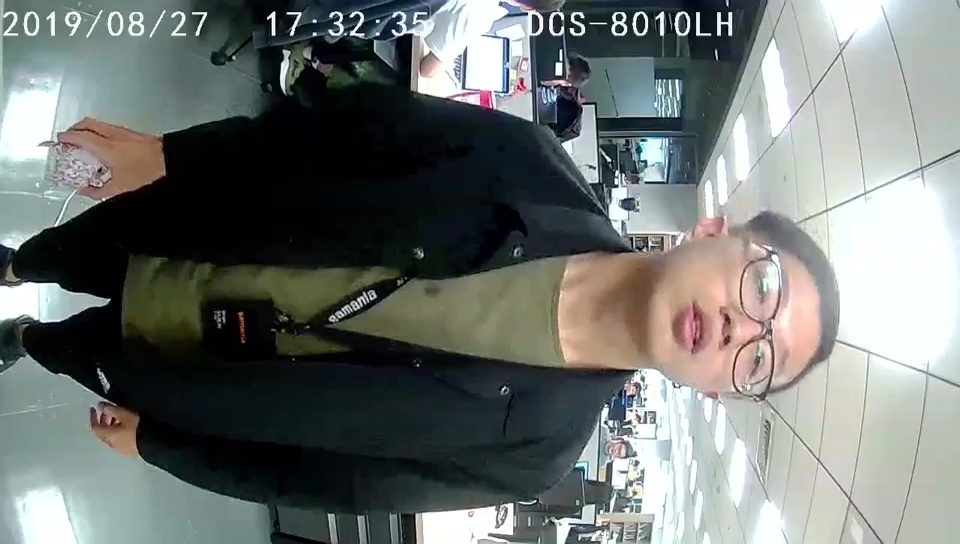pig: (50, 141, 116, 192)
